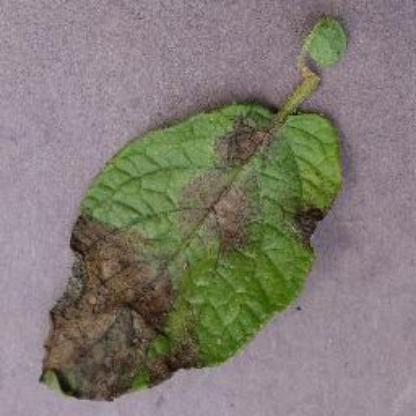Late-Blight: (31, 13, 368, 408)
